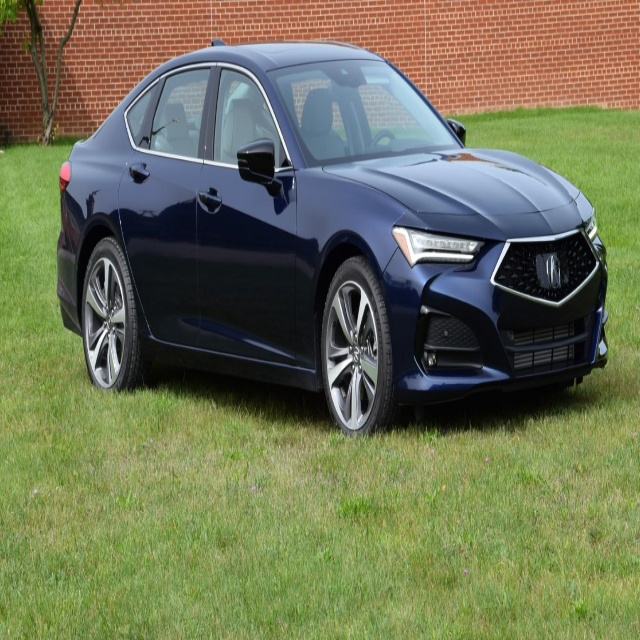Car: (56, 39, 609, 438)
